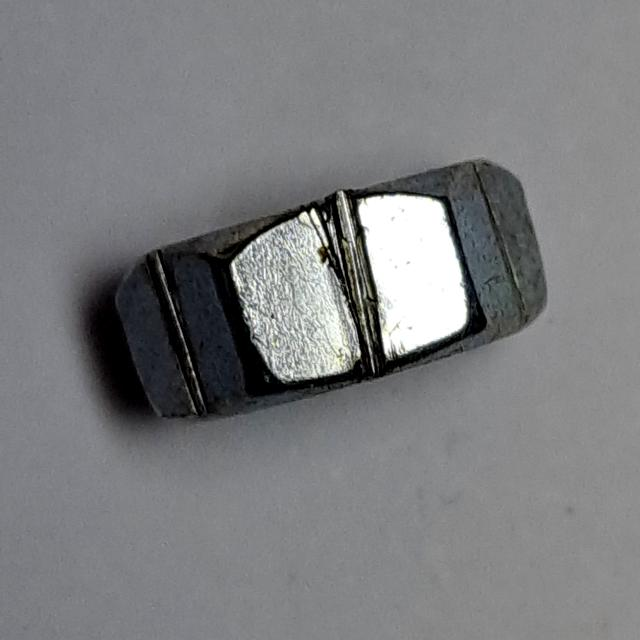Side_Scratches: (109, 143, 560, 441)
